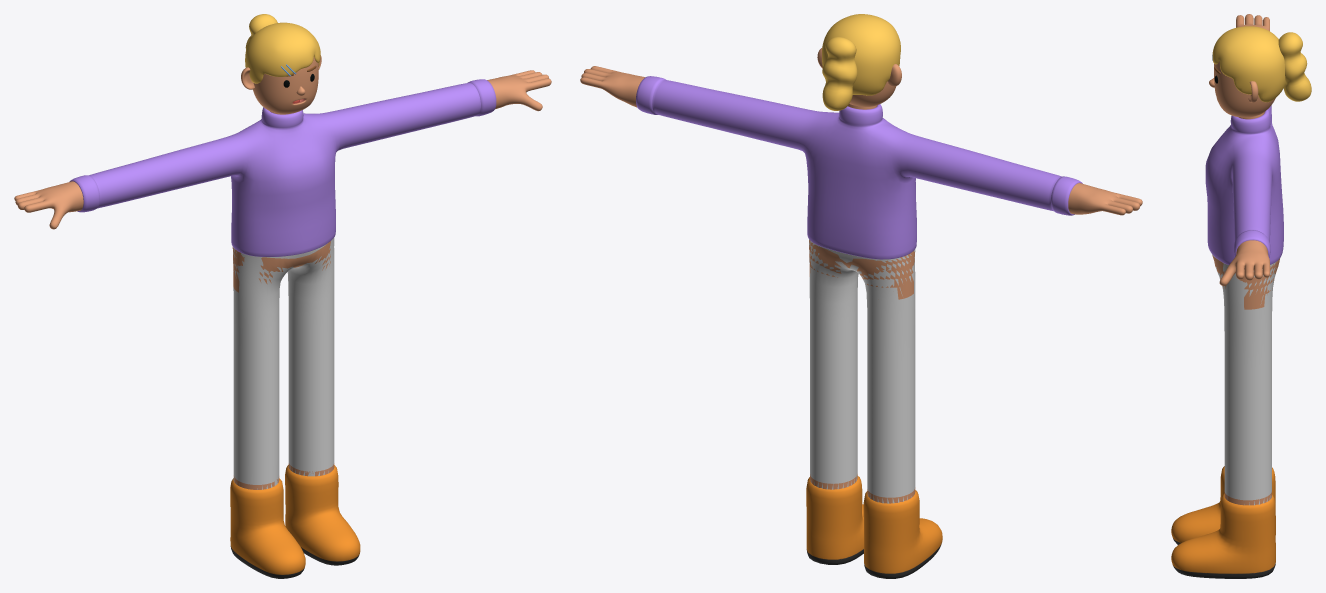
File: GIRL 1.fbx
3 views of the same model, side by side, from view 1: azimuth 30°, elevation 25°; view 2: azimuth 150°, elevation 25°; view 3: azimuth 270°, elevation 25° (orthographic). The views are drawn at different scales.
Parts seen in each view (by area): view 1: GIRL 1_SHIRT, GIRL 1_PANTS, GIRL_BODY (NO SKIRT).001, GIRL_1_SHOES.R, GIRL_1_SHOES.L, GIRL 1_HAIR; view 2: GIRL 1_SHIRT, GIRL 1_PANTS, GIRL_BODY (NO SKIRT).001, GIRL 1_HAIR, GIRL_1_SHOES.R, GIRL_1_SHOES.L; view 3: GIRL 1_PANTS, GIRL 1_SHIRT, GIRL_1_SHOES.L, GIRL 1_HAIR, GIRL_BODY (NO SKIRT).001, GIRL_1_SHOES.R.
Boxes of the visible parts, x1,y1,x2,y2 form: GIRL 1_SHIRT: [69, 79, 496, 256]; GIRL 1_PANTS: [233, 237, 334, 489]; GIRL_BODY (NO SKIRT).001: [14, 55, 551, 489]; GIRL_1_SHOES.R: [230, 478, 305, 578]; GIRL_1_SHOES.L: [285, 465, 360, 565]; GIRL 1_HAIR: [245, 14, 320, 83]; GIRL 1_SHIRT: [636, 76, 1082, 259]; GIRL 1_PANTS: [809, 239, 915, 503]; GIRL_BODY (NO SKIRT).001: [580, 48, 1142, 503]; GIRL 1_HAIR: [822, 14, 900, 110]; GIRL_1_SHOES.R: [863, 490, 942, 578]; GIRL_1_SHOES.L: [806, 476, 863, 564]; GIRL 1_PANTS: [1212, 254, 1276, 505]; GIRL 1_SHIRT: [1205, 105, 1283, 264]; GIRL_1_SHOES.L: [1171, 493, 1275, 578]; GIRL 1_HAIR: [1212, 26, 1311, 102]; GIRL_BODY (NO SKIRT).001: [1209, 14, 1279, 505]; GIRL_1_SHOES.R: [1171, 466, 1275, 544].
Bounding box in the file's own units: 205 × 191 × 46.33.
Materials: 10 (7 with a texture image).
